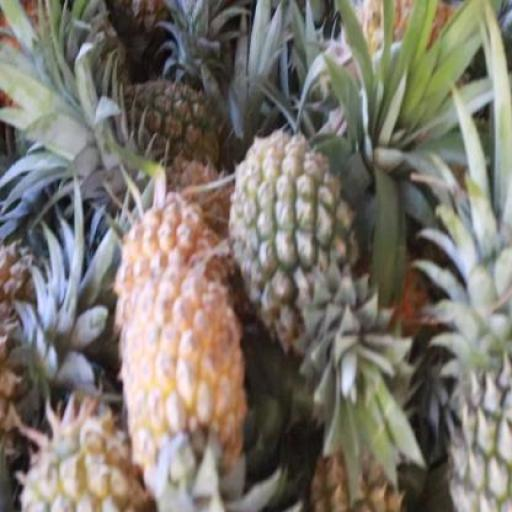------------------------------: (230, 136, 358, 334)
Pineapple - v8 v1: (126, 268, 240, 512)
